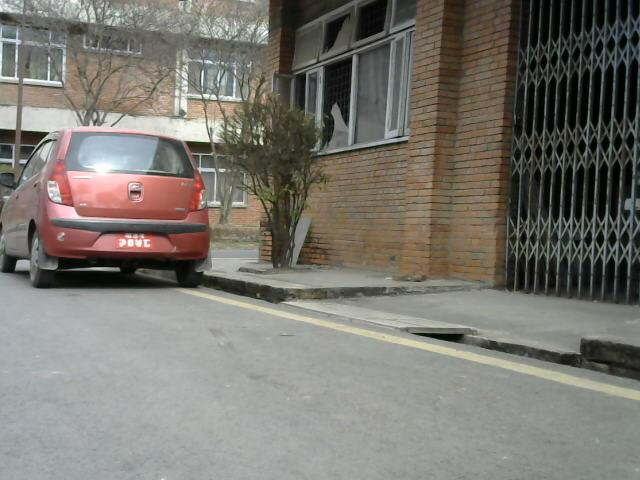Building: (288, 0, 640, 292)
Car: (4, 115, 231, 290)
Road: (9, 284, 640, 480)
Tree: (229, 90, 329, 261)
